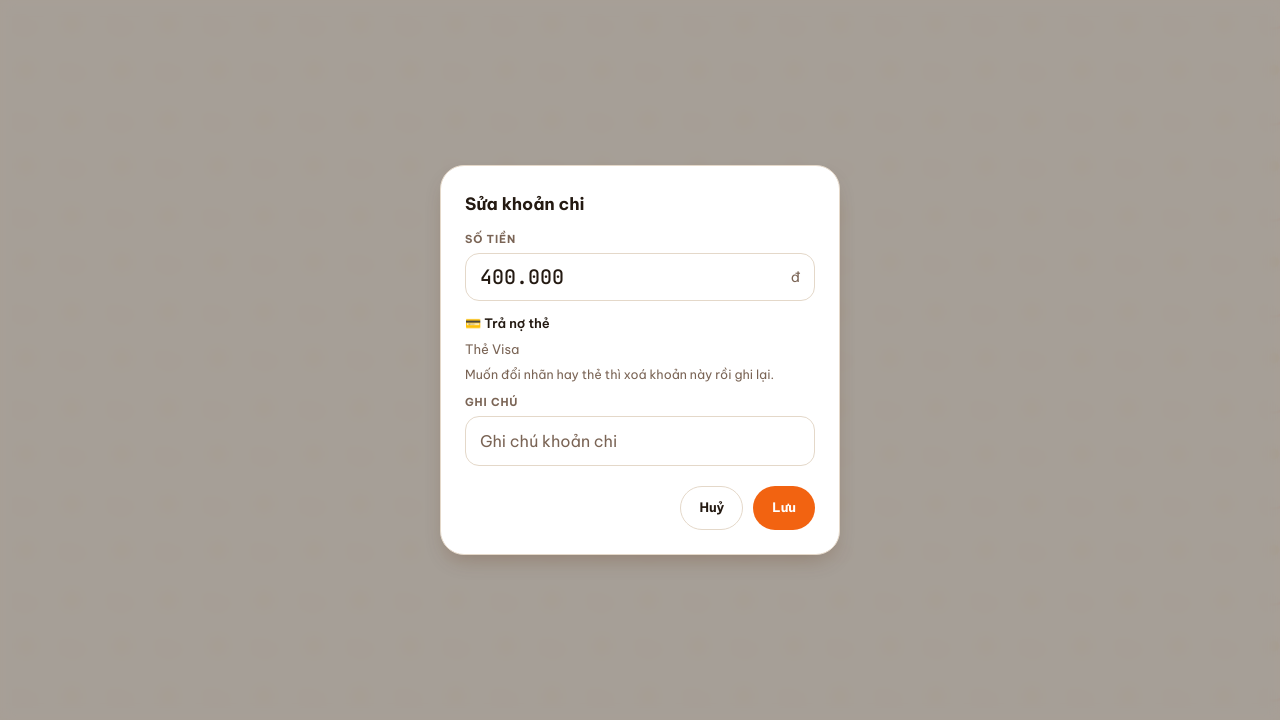
it: EditExpenseModal with cards › blocks raising a payment above the card's debt
This screenshot has width=1280, height=720.
Replace the text in the field labelled "Số tiền" with "1500000" at {"x": 631, "y": 277}, box top-left (480, 254), bottom-right (783, 300)
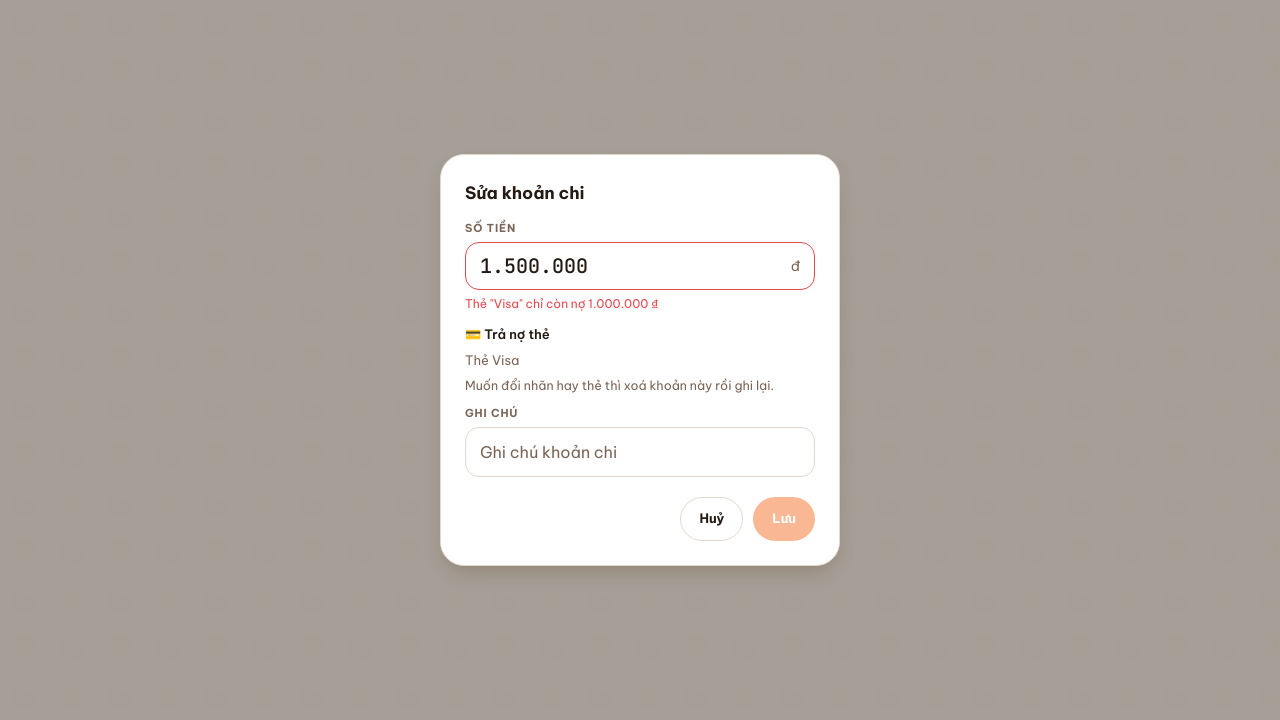
Now the text "Thẻ \"Visa\" chỉ còn nợ 1.000.000 ₫" is shown, box top-left (465, 296), bottom-right (658, 311)
Now the button "Lưu" is disabled, box top-left (753, 497), bottom-right (815, 541)
